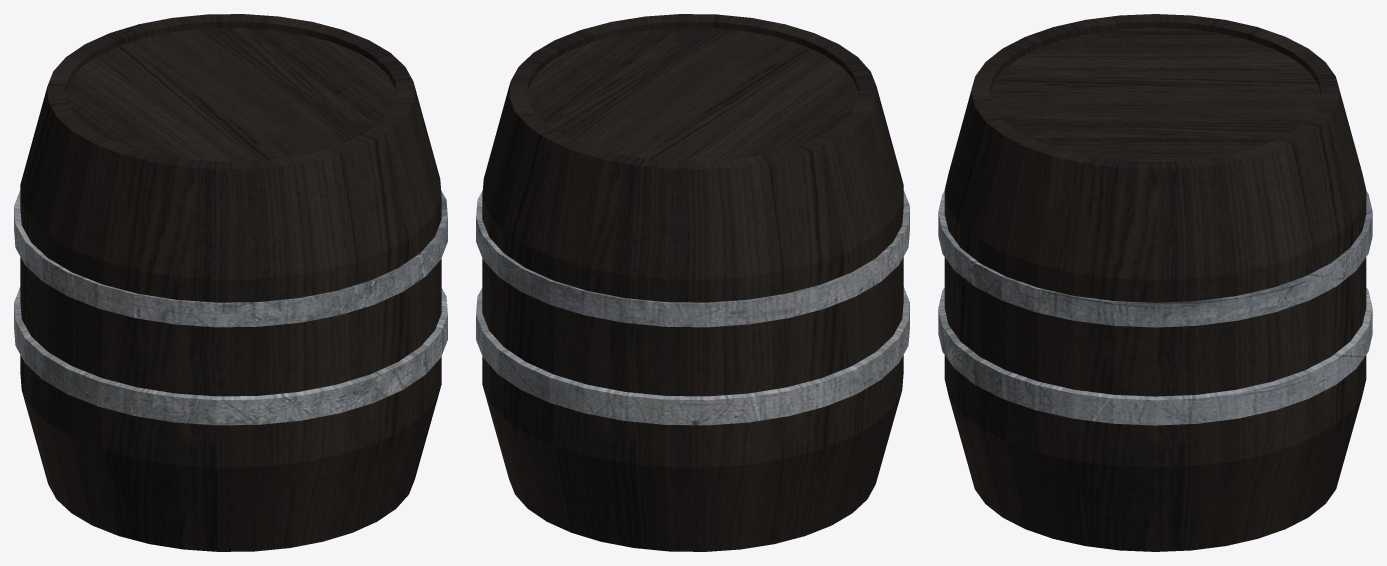
Rendered from Barrel.fbx.
3 renders of one model, left to right at view 1: azimuth 30°, elevation 25°; view 2: azimuth 150°, elevation 25°; view 3: azimuth 270°, elevation 25°, orthographic.
Parts seen in each view (by area): view 1: Cylinder; view 2: Cylinder; view 3: Cylinder.
Part boxes in pixels (x1,y1,x2,y2): Cylinder: (14,14,447,551); Cylinder: (476,14,909,551); Cylinder: (938,14,1372,551).
Bounding box in the file's own units: 206 × 200 × 206.
